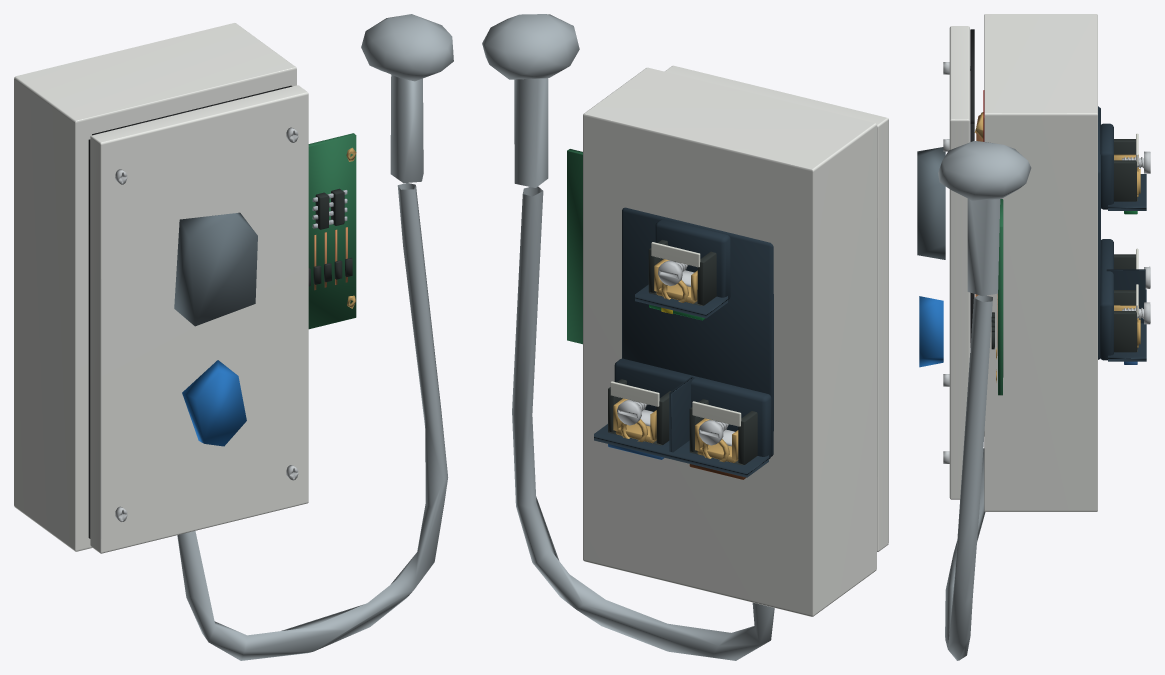
Rendered from shower_default.low.glb.
3 renders of one model, left to right at view 1: azimuth 30°, elevation 25°; view 2: azimuth 150°, elevation 25°; view 3: azimuth 270°, elevation 25°, orthographic. The views are drawn at different scales.
Visible parts, largest first — view 1: part:cover, part:body, part:body.002 · Original 2a8198d3, part:body.001, FR4 control PCB, detail:appliance-control · Detail moulded engineering polyme, detail:enclosure-gasket-and-fixings · Detail rubber gasket; view 2: part:body, part:terminals · Original a463fd81, part:body.002 · Original 2a8198d3, part:cover, FR4 control PCB, detail:terminal-clamp:PE · Detail moulded engineering polyme, detail:terminal-clamp:L · Detail moulded engineering polymer, detail:terminal-clamp:N · Detail moulded engineering polymer, detail:terminal-clamp:N · Detail machined brass, detail:terminal-clamp:PE · Detail machined brass, detail:terminal-clamp:L · Detail machined brass, Moulded terminal legend pad.001 (+5 smaller); view 3: part:body, part:body.002 · Original 2a8198d3, part:cover, part:terminals · Original a463fd81, part:body.001, detail:terminal-clamp:N · Detail moulded engineering polymer, detail:terminal-clamp:PE · Detail moulded engineering polyme, FR4 control PCB, detail:enclosure-gasket-and-fixings · Detail rubber gasket, detail:enclosure-gasket-and-fixings · Detail zinc plated fix.
Boxes of the visible parts, bbox=[...] form: part:cover: bbox=[90, 85, 308, 553]; part:body: bbox=[14, 23, 296, 551]; part:body.002 · Original 2a8198d3: bbox=[177, 14, 453, 660]; part:body.001: bbox=[174, 212, 257, 446]; FR4 control PCB: bbox=[308, 133, 356, 329]; detail:appliance-control · Detail moulded engineering polyme: bbox=[308, 188, 352, 286]; detail:enclosure-gasket-and-fixings · Detail rubber gasket: bbox=[88, 85, 292, 538]; part:body: bbox=[583, 67, 876, 616]; part:terminals · Original a463fd81: bbox=[594, 207, 773, 477]; part:body.002 · Original 2a8198d3: bbox=[482, 14, 774, 660]; part:cover: bbox=[665, 65, 888, 551]; FR4 control PCB: bbox=[567, 149, 582, 344]; detail:terminal-clamp:PE · Detail moulded engineering polyme: bbox=[648, 240, 716, 305]; detail:terminal-clamp:L · Detail moulded engineering polymer: bbox=[689, 399, 757, 465]; detail:terminal-clamp:N · Detail moulded engineering polymer: bbox=[608, 379, 670, 445]; detail:terminal-clamp:N · Detail machined brass: bbox=[613, 398, 656, 443]; detail:terminal-clamp:PE · Detail machined brass: bbox=[654, 259, 697, 303]; detail:terminal-clamp:L · Detail machined brass: bbox=[695, 418, 738, 462]; Moulded terminal legend pad.001: bbox=[610, 381, 659, 406]; part:body: bbox=[984, 14, 1097, 511]; part:body.002 · Original 2a8198d3: bbox=[938, 141, 1031, 660]; part:cover: bbox=[949, 26, 969, 499]; part:terminals · Original a463fd81: bbox=[1098, 106, 1146, 361]; part:body.001: bbox=[917, 147, 945, 367]; detail:terminal-clamp:N · Detail moulded engineering polymer: bbox=[1114, 290, 1137, 352]; detail:terminal-clamp:PE · Detail moulded engineering polyme: bbox=[1114, 139, 1137, 201]; FR4 control PCB: bbox=[998, 199, 1003, 395]; detail:enclosure-gasket-and-fixings · Detail rubber gasket: bbox=[970, 29, 974, 347]; detail:enclosure-gasket-and-fixings · Detail zinc plated fix: bbox=[943, 62, 970, 463].
Bounding box in the file's own units: 0.9222 × 1.4 × 0.541.
